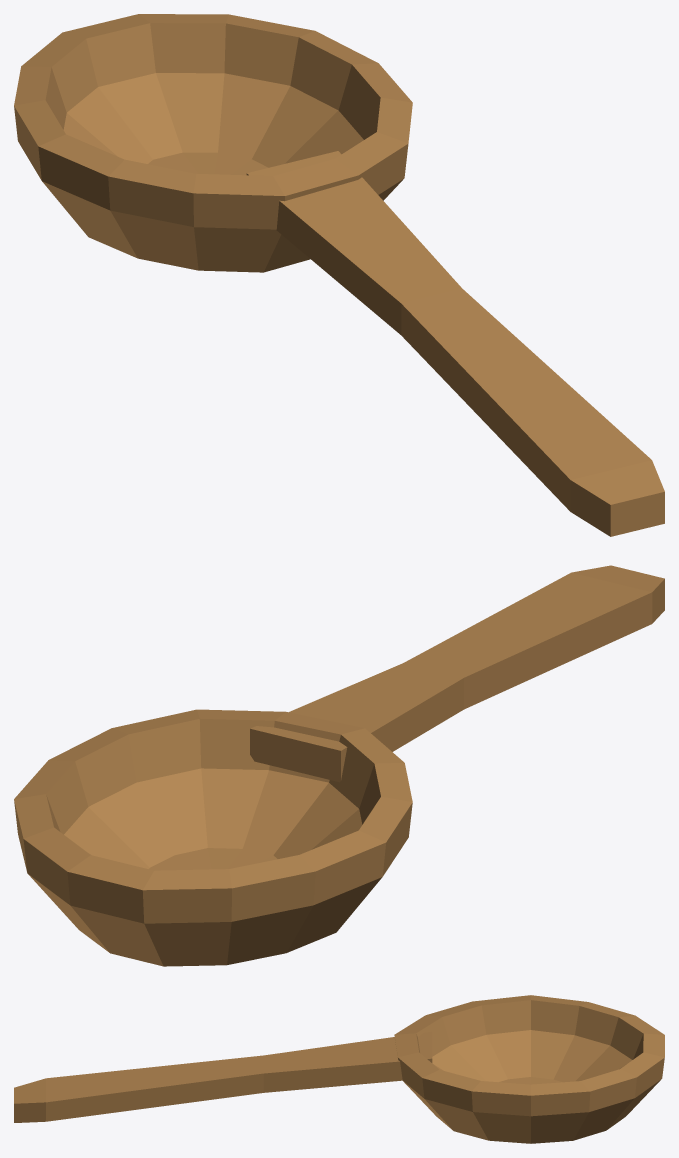
Rendered from spoon_utensil_wood_01.glb.
3 views of the same model, one above another, from view 1: azimuth 30°, elevation 25°; view 2: azimuth 150°, elevation 25°; view 3: azimuth 270°, elevation 25° (orthographic). The views are drawn at different scales.
Visible parts, largest first — view 1: spoon_utensil_wood_01__scoop, spoon_utensil_wood_01__handle; view 2: spoon_utensil_wood_01__scoop, spoon_utensil_wood_01__handle; view 3: spoon_utensil_wood_01__scoop, spoon_utensil_wood_01__handle.
Boxes of the visible parts, left/top/right/bottom form: spoon_utensil_wood_01__scoop: left=14, top=14, right=412, bottom=272; spoon_utensil_wood_01__handle: left=246, top=151, right=664, bottom=536; spoon_utensil_wood_01__scoop: left=14, top=709, right=412, bottom=966; spoon_utensil_wood_01__handle: left=250, top=565, right=664, bottom=782; spoon_utensil_wood_01__scoop: left=394, top=995, right=664, bottom=1143; spoon_utensil_wood_01__handle: left=14, top=1031, right=432, bottom=1122.
Bounding box in the file's own units: 0.2004 × 0.071 × 0.5478.
